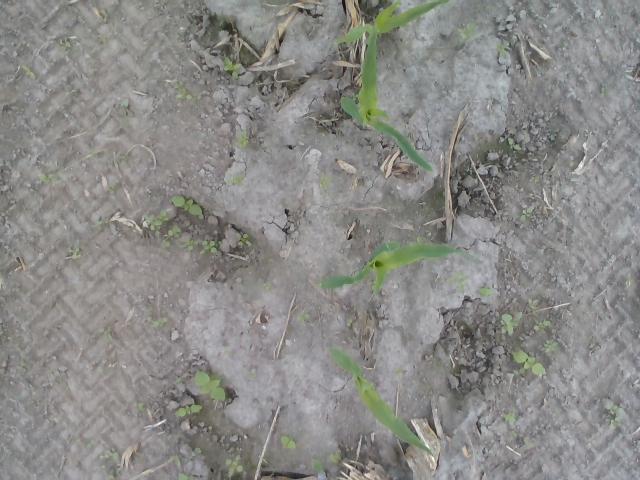Maize: (339, 28, 434, 175), (328, 341, 433, 458), (318, 240, 474, 298), (334, 0, 451, 48)
Weeds: (194, 369, 226, 402), (511, 349, 546, 375), (169, 193, 204, 218), (142, 209, 170, 238), (604, 400, 626, 428), (500, 311, 523, 336), (224, 454, 247, 478), (455, 22, 480, 43), (162, 224, 183, 248), (223, 56, 241, 80), (174, 79, 192, 101), (176, 404, 203, 418), (233, 127, 250, 148), (296, 310, 312, 332), (532, 318, 552, 335), (513, 206, 534, 222), (238, 230, 256, 248), (494, 38, 510, 58), (318, 174, 336, 191), (280, 432, 298, 449), (200, 240, 220, 255), (542, 338, 560, 354), (99, 448, 119, 461), (502, 409, 518, 425), (508, 136, 522, 154), (39, 174, 60, 186), (312, 455, 326, 473), (328, 450, 343, 466), (182, 238, 199, 252), (22, 64, 36, 80), (454, 271, 466, 289), (99, 8, 112, 24), (150, 317, 167, 329), (478, 286, 496, 297), (463, 254, 481, 265), (406, 235, 424, 246), (69, 239, 80, 256), (600, 80, 610, 98), (56, 38, 71, 50), (231, 174, 246, 186), (528, 298, 540, 312), (133, 400, 145, 414), (16, 359, 28, 372), (114, 151, 128, 161), (176, 472, 193, 480), (212, 16, 224, 27), (173, 456, 184, 467), (194, 446, 206, 456), (256, 15, 265, 28), (119, 99, 129, 110), (246, 371, 258, 380), (394, 368, 406, 377), (558, 39, 568, 49), (95, 214, 104, 224), (104, 184, 114, 193), (424, 354, 432, 365), (529, 176, 539, 184), (523, 439, 530, 449), (104, 334, 112, 342), (263, 283, 272, 290), (271, 0, 283, 5), (347, 318, 352, 328), (272, 15, 278, 23), (512, 430, 518, 438), (185, 223, 192, 228), (495, 134, 500, 139)
